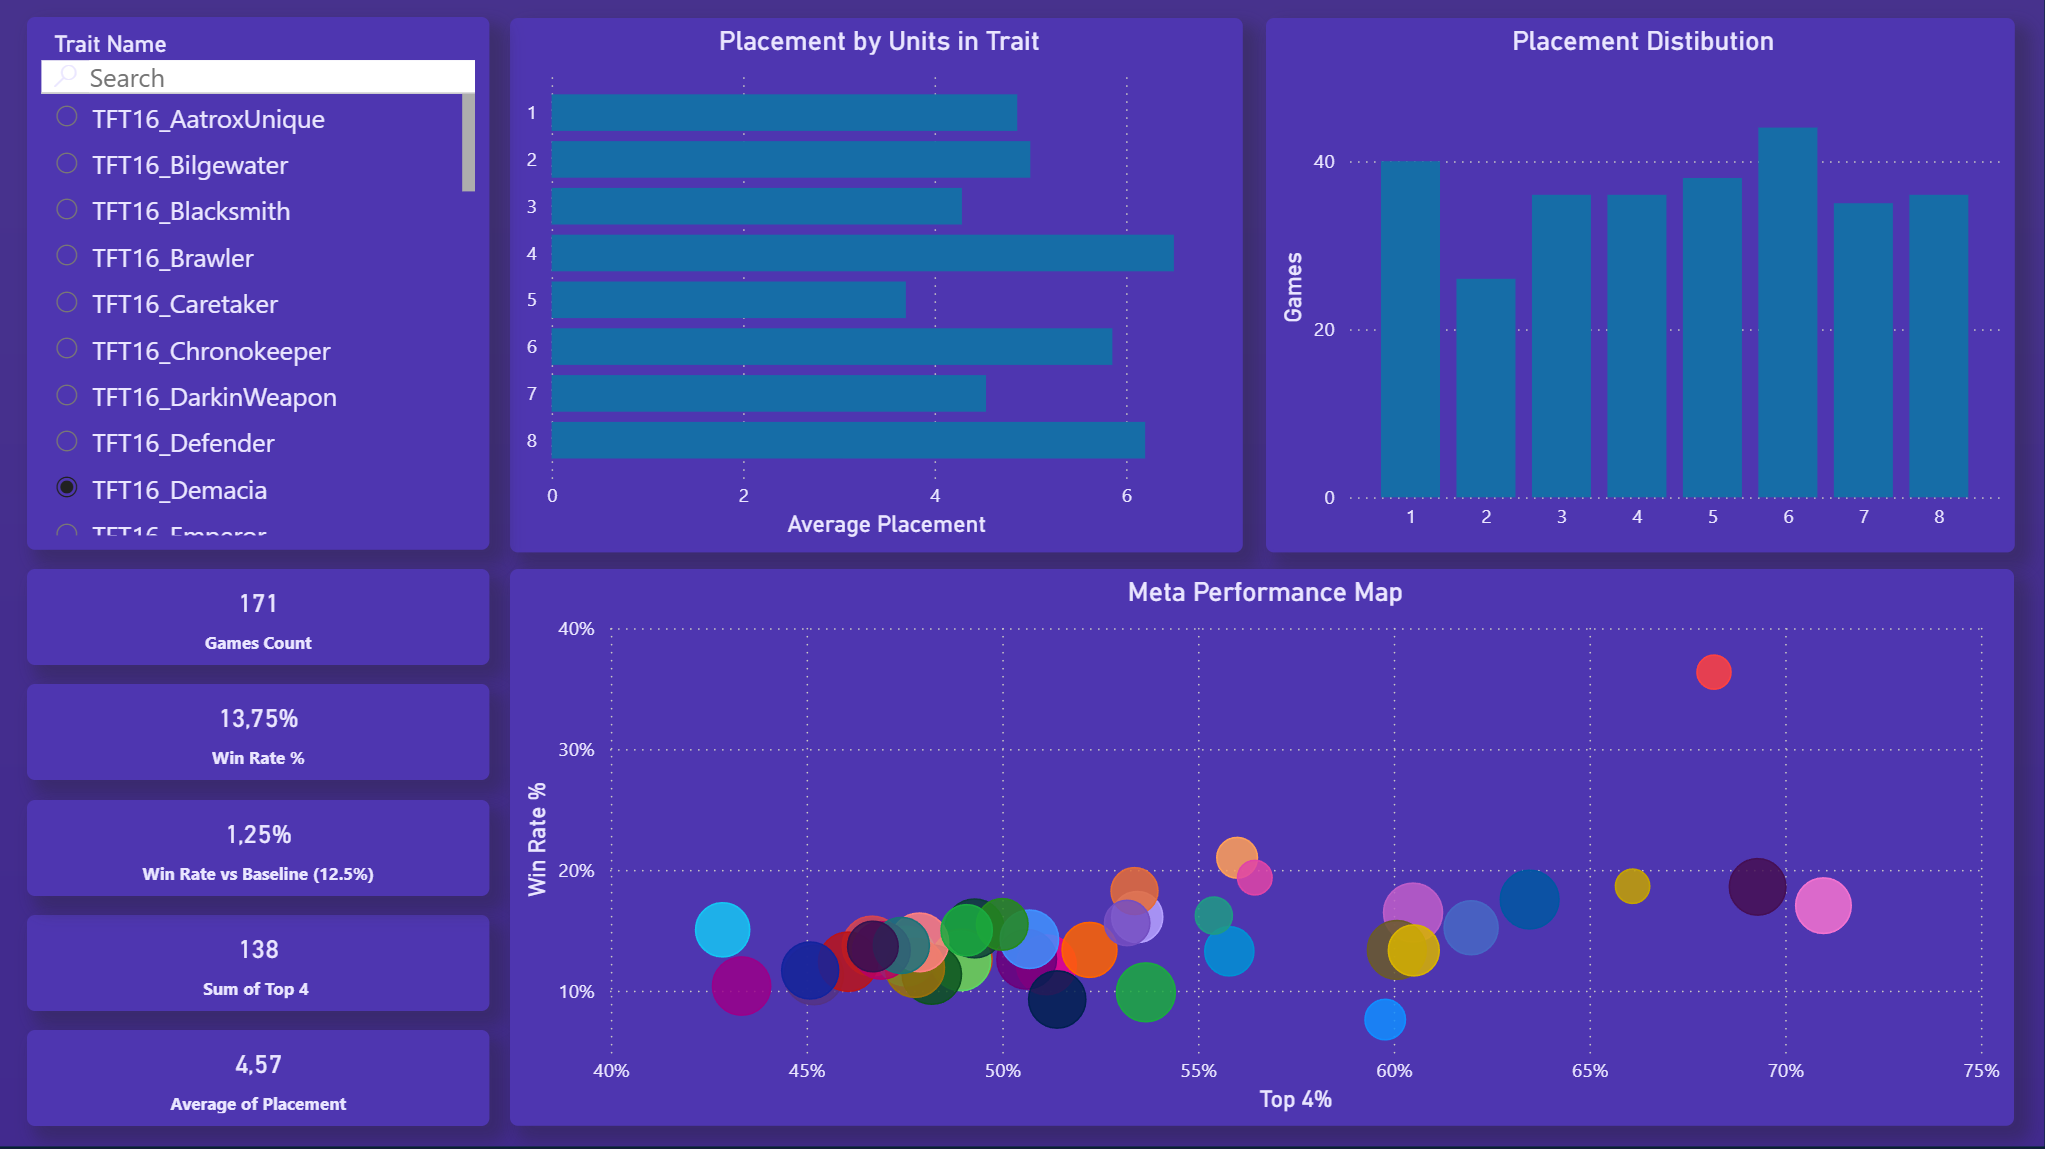

This screenshot's page, from the dashboard's own definition file:
{"tool":"powerbi","page":{"name":"Page 3","canvas":[1280,720],"ordinal":2},"visuals":[{"type":"clusteredBarChart","title":"Placement by Units in Trait","fields":{"Category":["tft_project vw_traits_analysis.num_units"],"Y":["Avg(tft_project vw_traits_analysis.placement)"]},"box":[320,12.3,457.8,333.5],"z":0},{"type":"slicer","fields":{"Values":["tft_project vw_traits_analysis.trait_name"]},"box":[18,12,289.4,333.4],"z":1000},{"type":"card","fields":{"Values":["tft_project vw_traits_analysis.Games Count"]},"box":[17.8,357,289.2,60],"z":2000},{"type":"clusteredColumnChart","title":"Placement Distibution","fields":{"Y":["Count(tft_project vw_traits_analysis.match_id)"],"Category":["tft_project vw_traits_analysis.placement"]},"box":[792.6,12.3,467.7,333.5],"z":3000},{"type":"card","fields":{"Values":["Sum(tft_project vw_traits_analysis.is_top4)"]},"box":[17.8,573,289.2,60],"z":4000},{"type":"card","fields":{"Values":["Avg(tft_project vw_traits_analysis.placement)"]},"box":[17.8,645,289.2,60],"z":5000},{"type":"card","fields":{"Values":["tft_project vw_traits_analysis.Win Rate %"]},"box":[17.8,429,289.2,60],"z":6000},{"type":"card","fields":{"Values":["tft_project vw_traits_analysis.Win vs Expected"]},"box":[17.8,501,289.2,60],"z":7000},{"type":"scatterChart","title":"Meta Performance Map","fields":{"Y":["tft_project vw_traits_analysis.Win Rate %"],"Size":["tft_project vw_traits_analysis.Games Count"],"X":["tft_project vw_traits_analysis.Top 4%"],"Series":["tft_project vw_traits_analysis.trait_name"]},"box":[320,357,940.3,348.3],"z":8000}]}

Visuals, with their boxes in screenshot pixels (x1, y1, x2, y2), scaled from the page's 1280x720 canvas onto the 2045x1149 screenshot:
"Placement by Units in Trait" clusteredBarChart: (511, 20, 1243, 552)
slicer - tft_project vw_traits_analysis.trait_name: (29, 19, 491, 551)
card - tft_project vw_traits_analysis.Games Count: (28, 570, 490, 665)
"Placement Distibution" clusteredColumnChart: (1266, 20, 2014, 552)
card - Sum(tft_project vw_traits_analysis.is_top4): (28, 914, 490, 1010)
card - Avg(tft_project vw_traits_analysis.placement): (28, 1029, 490, 1125)
card - tft_project vw_traits_analysis.Win Rate %: (28, 685, 490, 780)
card - tft_project vw_traits_analysis.Win vs Expected: (28, 800, 490, 895)
"Meta Performance Map" scatterChart: (511, 570, 2014, 1126)
